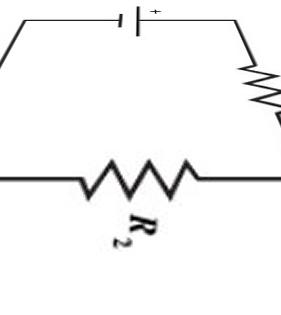resistor: (61, 143, 209, 206), (229, 41, 279, 125)
